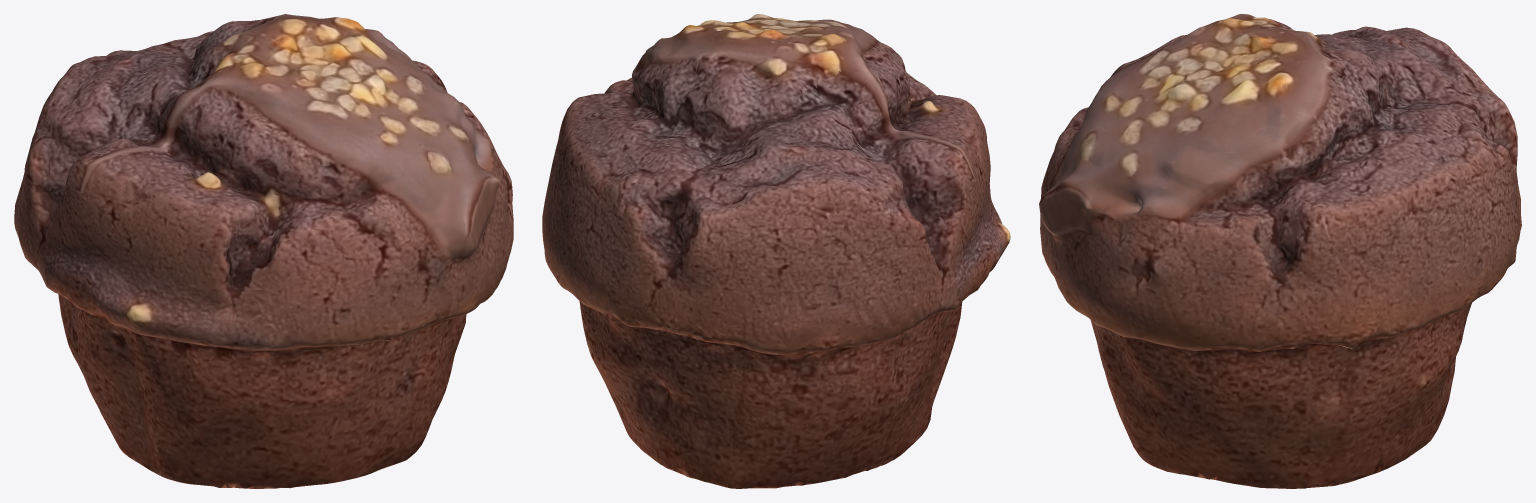
Rendered from muffin_16028.obj.
The picture shows the model from 3 angles, left to right: view 1: azimuth 30°, elevation 25°; view 2: azimuth 150°, elevation 25°; view 3: azimuth 270°, elevation 25°; orthographic projection. The views are drawn at different scales.
Bounding box in the file's own units: 14.21 × 13.01 × 14.4.
Materials: 1 (1 with a texture image).
